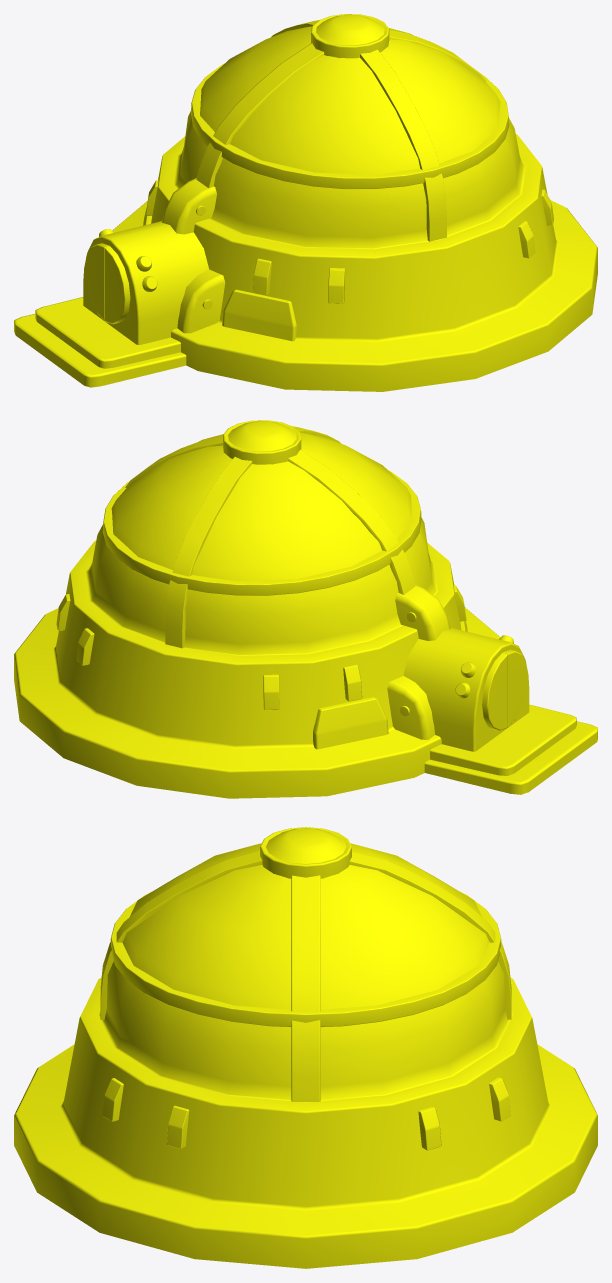
Rendered from farm.glb.
3 views of the same model, one above another, from view 1: azimuth 30°, elevation 25°; view 2: azimuth 150°, elevation 25°; view 3: azimuth 270°, elevation 25° (orthographic). The views are drawn at different scales.
Parts seen in each view (by area): view 1: Farm; view 2: Farm; view 3: Farm.
Boxes of the visible parts, x1,y1,x2,y2 form: Farm: (14,14,597,391); Farm: (14,420,597,798); Farm: (14,827,597,1268).
Size of the model in its own units: 16.57 by 8.14 by 13.9.
1 material, 1 textured.
